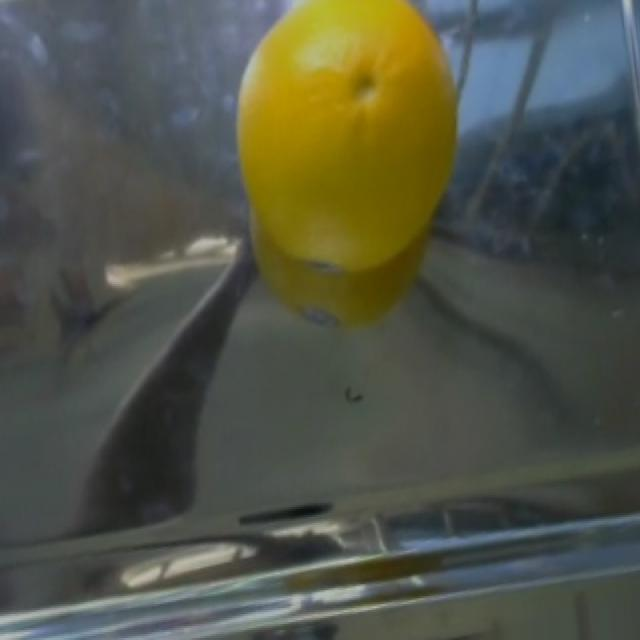Fruit: (215, 0, 472, 358)
